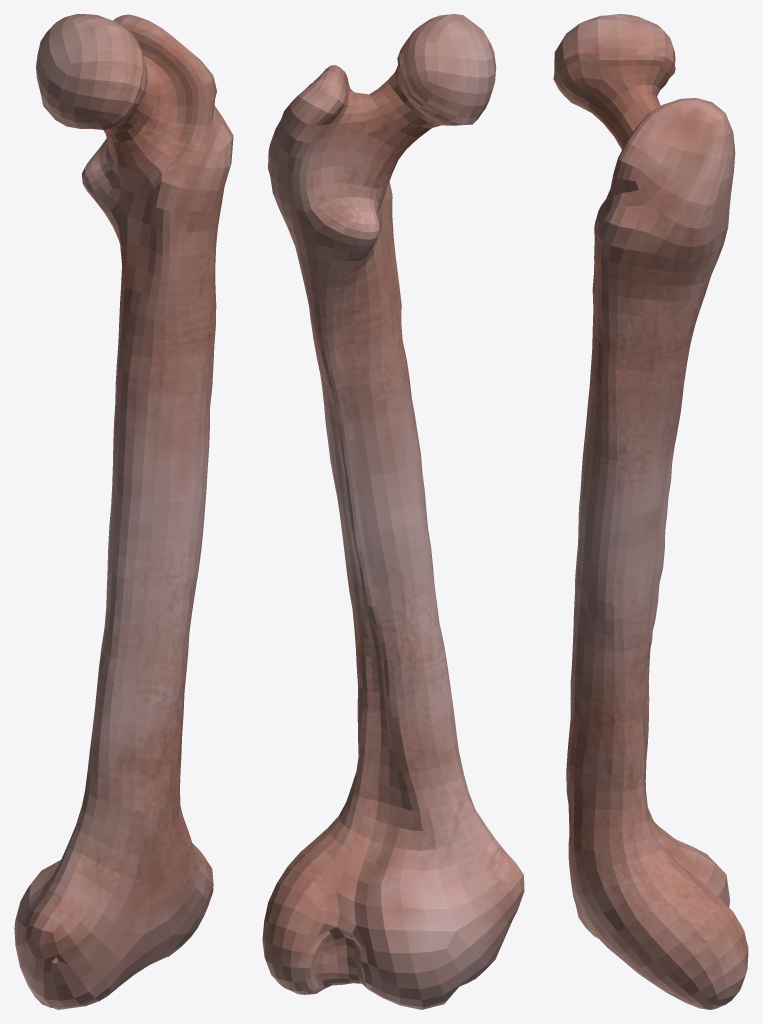
File: left_femur.obj
The picture shows the model from 3 angles, left to right: view 1: azimuth 30°, elevation 25°; view 2: azimuth 150°, elevation 25°; view 3: azimuth 270°, elevation 25°; orthographic projection. The views are drawn at different scales.
Parts seen in each view (by area): view 1: left_femur; view 2: left_femur; view 3: left_femur.
Boxes of the visible parts, box(x1,y1,x2,y2) form: left_femur: box(14, 14, 233, 1009); left_femur: box(262, 14, 524, 1009); left_femur: box(553, 14, 748, 1009).
Bounding box in the file's own units: 0.6816 × 3.05 × 0.5665.
